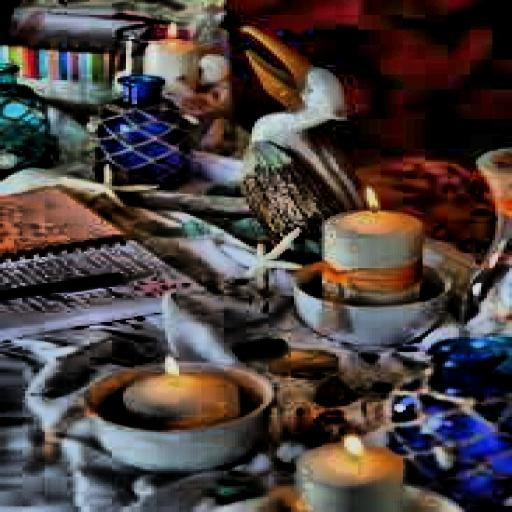fire: (344, 179, 392, 218), (330, 432, 375, 462), (157, 348, 193, 384)
